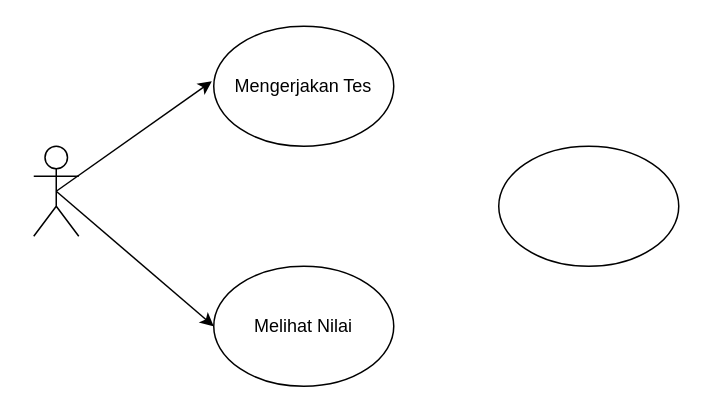
Image size: 705x413. Some labels were removed from this diagram. The shapes that lost their labels are listed below. From the top down, each one's centre as x and y in pixels, then its label:
(55,190): Peserta
(588,205): Login
